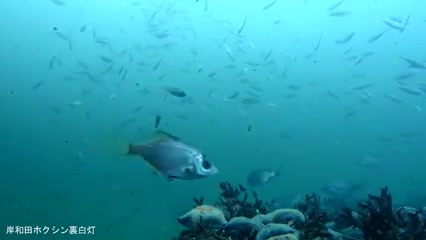smallfish: (112, 127, 225, 187)
